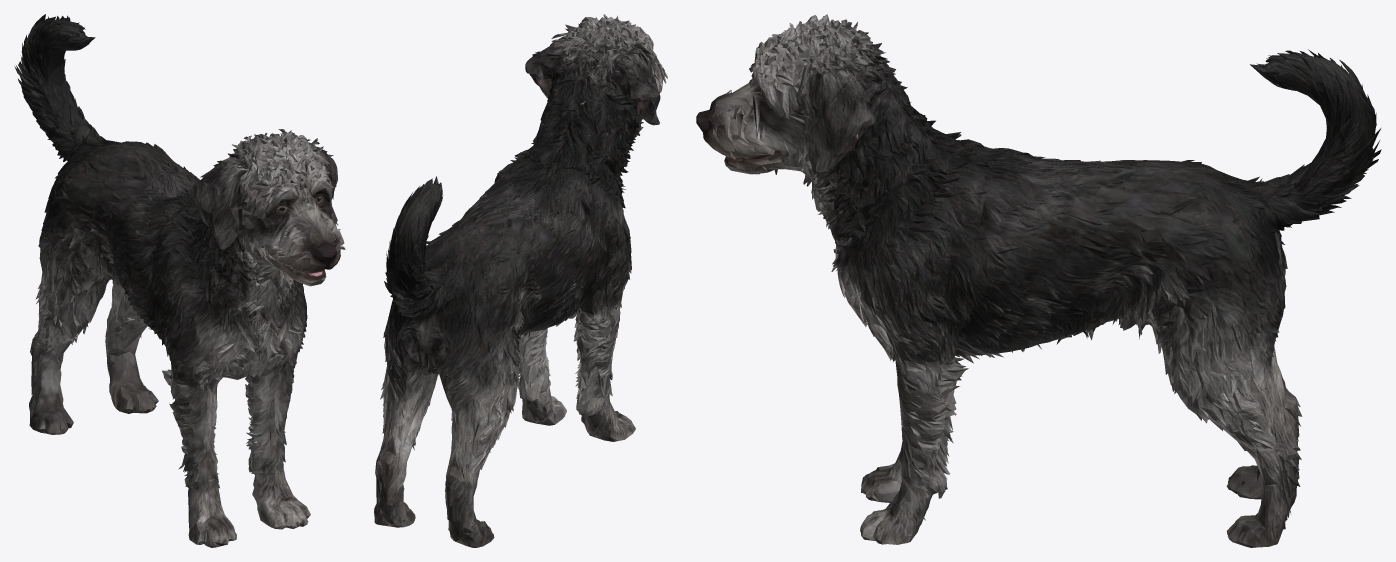
File: river.glb
The picture shows the model from 3 angles, left to right: view 1: azimuth 30°, elevation 25°; view 2: azimuth 150°, elevation 25°; view 3: azimuth 270°, elevation 25°; orthographic projection. The views are drawn at different scales.
Size of the model in its own units: 0.5305 by 1.5 by 1.9.
1 material, 1 textured.
